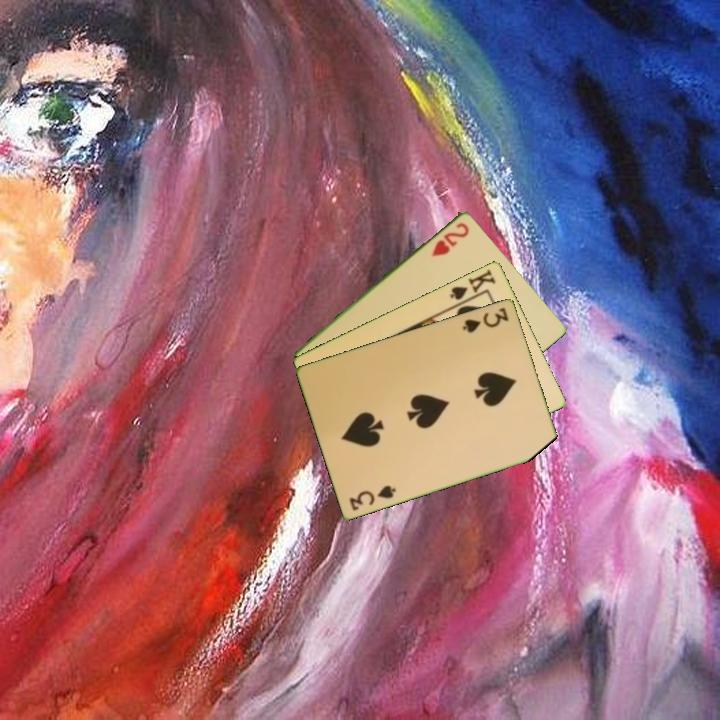2h: (428, 219, 472, 259)
3s: (346, 481, 399, 513), (459, 304, 512, 335)
Ks: (446, 265, 499, 303)
